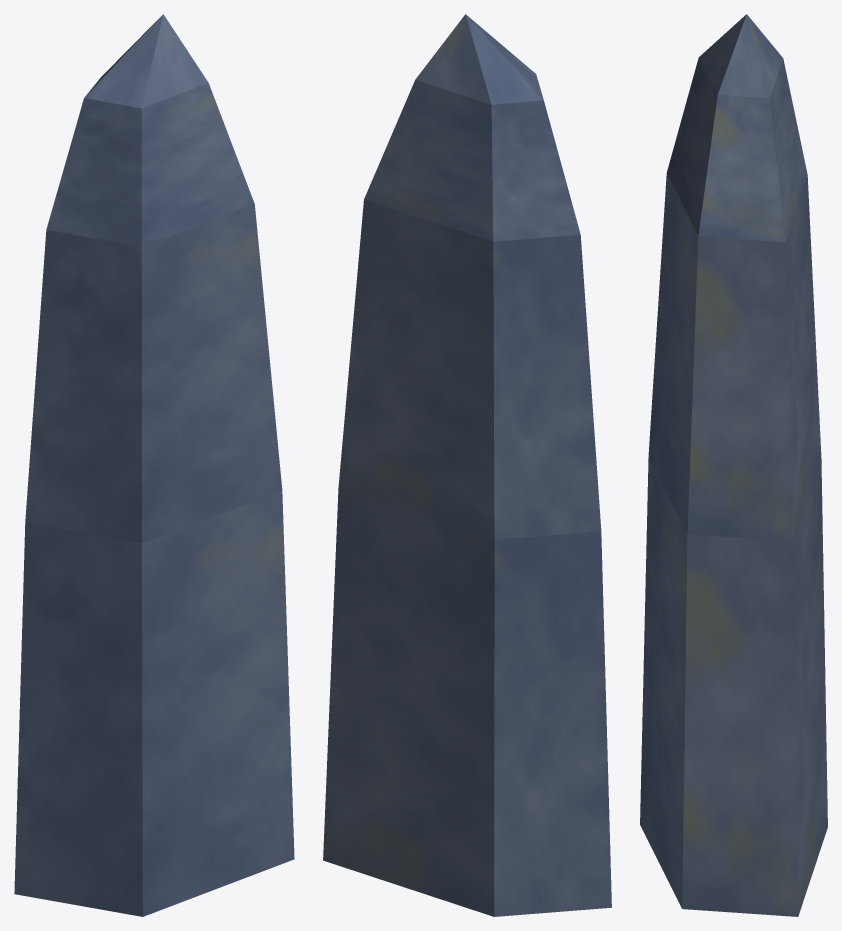
File: Oracle_Menhir_1_LOD1.gltf
3 views of the same model, side by side, from view 1: azimuth 30°, elevation 25°; view 2: azimuth 150°, elevation 25°; view 3: azimuth 270°, elevation 25° (orthographic).
Visible parts, largest first — view 1: Oracle_Menhir_1_LOD1; view 2: Oracle_Menhir_1_LOD1; view 3: Oracle_Menhir_1_LOD1.
Boxes of the visible parts, x1=… form: Oracle_Menhir_1_LOD1: x1=14, y1=14, x2=294, y2=916; Oracle_Menhir_1_LOD1: x1=323, y1=14, x2=611, y2=916; Oracle_Menhir_1_LOD1: x1=640, y1=14, x2=827, y2=916.
Bounding box in the file's own units: 1.06 × 3.26 × 0.6563.
1 material, 1 textured.
